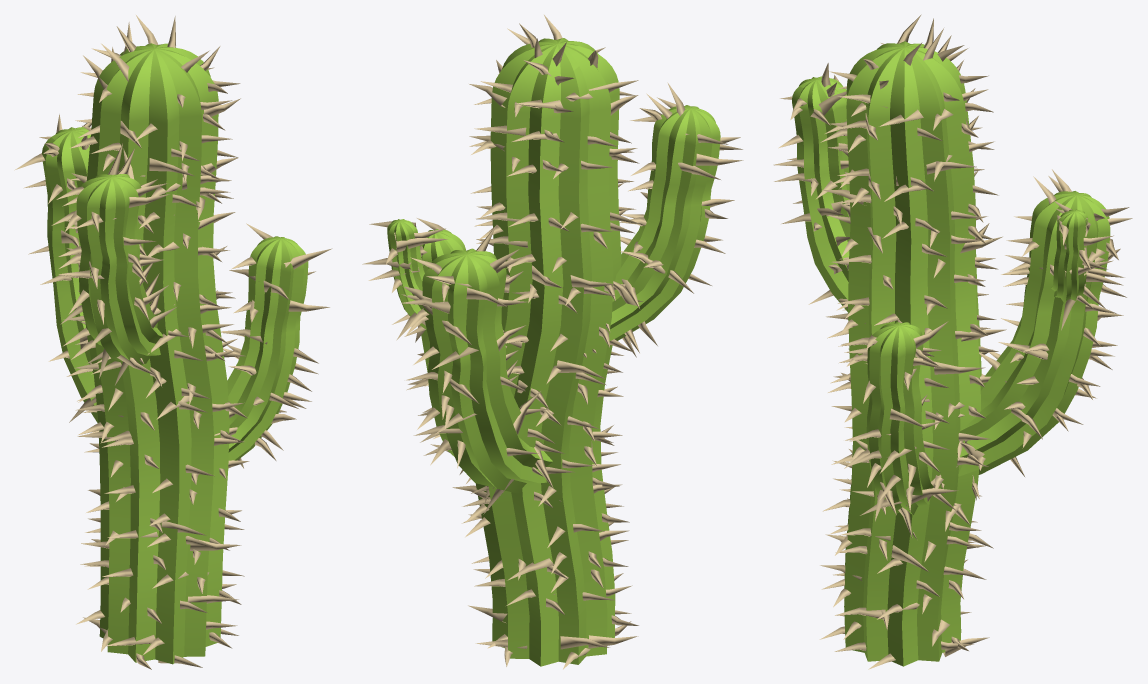
Rendered from LCactus4.fbx.
The picture shows the model from 3 angles, left to right: view 1: azimuth 30°, elevation 25°; view 2: azimuth 150°, elevation 25°; view 3: azimuth 270°, elevation 25°; orthographic projection.
Visible parts, largest first — view 1: LCactus4; view 2: LCactus4; view 3: LCactus4.
Boxes of the visible parts, x1,y1,x2,y2 form: LCactus4: (14, 15, 332, 669); LCactus4: (362, 15, 743, 669); LCactus4: (773, 14, 1132, 669).
Bounding box in the file's own units: 243 × 477 × 254.
